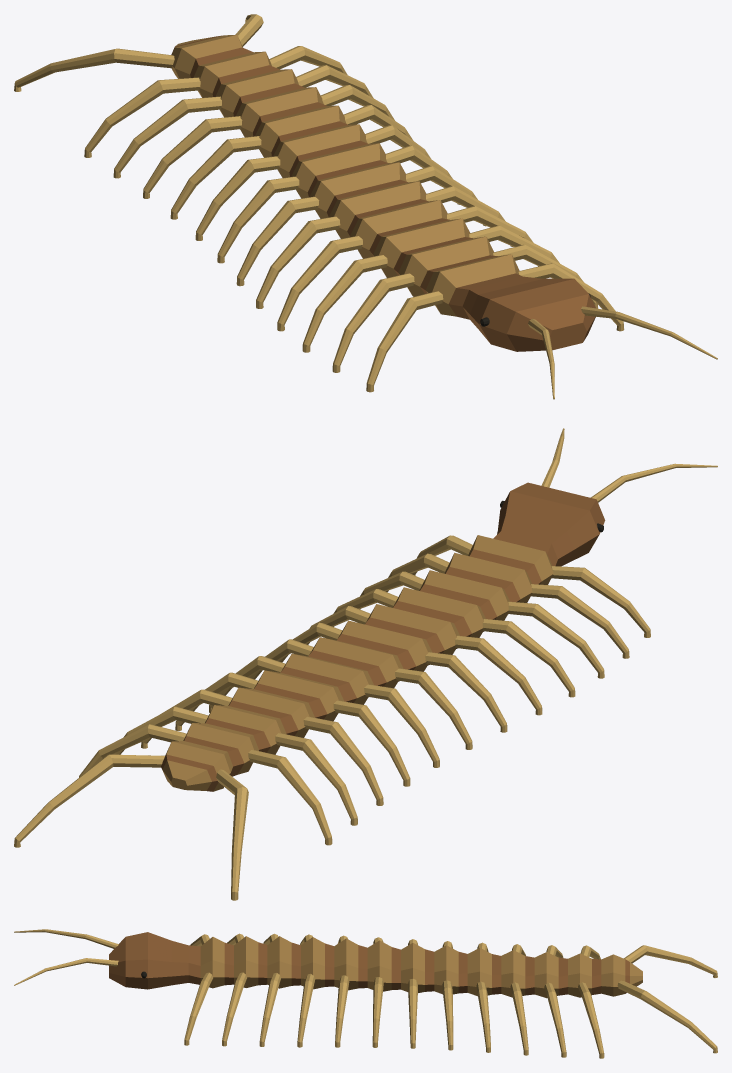
3 views of the same model, one above another, from view 1: azimuth 30°, elevation 25°; view 2: azimuth 150°, elevation 25°; view 3: azimuth 270°, elevation 25° (orthographic). The views are drawn at different scales.
Visible parts, largest first — view 1: WholeBroadLowHeadAndContinuousFlattenedSegmentedTrunk, WholeLongArticulatedLateralLeg0_12, WholeLongArticulatedLateralLeg0_11, WholeLongArticulatedLateralLeg0_10, WholeLongArticulatedLateralLeg0_2, WholeLongArticulatedLateralLeg0_1, WholeLongArticulatedLateralLeg0_3, WholeLongArticulatedLateralLeg0_9, WholeLongArticulatedLateralLeg0_0, WholeLongArticulatedLateralLeg0_4, WholeLongArticulatedLateralLeg0_8, WholeLongArticulatedLateralLeg0_5 (+15 smaller); view 2: WholeBroadLowHeadAndContinuousFlattenedSegmentedTrunk, WholeLongArticulatedLateralLeg1_12, WholeLongArticulatedLateralLeg0_12, WholeLongArticulatedLateralLeg0_11, WholeLongArticulatedLateralLeg0_10, WholeLongArticulatedLateralLeg0_2, WholeLongArticulatedLateralLeg0_1, WholeLongArticulatedLateralLeg0_9, WholeLongArticulatedLateralLeg0_0, WholeLongArticulatedLateralLeg0_3, WholeLongArticulatedLateralLeg0_4, WholeLongArticulatedLateralLeg0_8 (+7 smaller); view 3: WholeBroadLowHeadAndContinuousFlattenedSegmentedTrunk, WholeLongArticulatedLateralLeg1_12, WholeLongArticulatedLateralLeg0_12, WholeLongArticulatedLateralLeg1_11, WholeLongArticulatedLateralLeg1_10, WholeLongArticulatedLateralLeg1_0, WholeLongArticulatedLateralLeg1_1, WholeLongArticulatedLateralLeg1_2, WholeLongArticulatedLateralLeg1_3, WholeLongArticulatedLateralLeg1_9, WholeLongArticulatedLateralLeg1_4, WholeLongArticulatedLateralLeg1_7 (+5 smaller).
Part boxes in pixels (x1,y1,x2,y2): WholeBroadLowHeadAndContinuousFlattenedSegmentedTrunk: [171, 34, 595, 351]; WholeLongArticulatedLateralLeg0_12: [14, 48, 174, 91]; WholeLongArticulatedLateralLeg0_11: [84, 77, 200, 157]; WholeLongArticulatedLateralLeg0_10: [113, 96, 221, 178]; WholeLongArticulatedLateralLeg0_2: [302, 255, 387, 352]; WholeLongArticulatedLateralLeg0_1: [332, 273, 414, 372]; WholeLongArticulatedLateralLeg0_3: [277, 236, 362, 331]; WholeLongArticulatedLateralLeg0_9: [143, 116, 242, 198]; WholeLongArticulatedLateralLeg0_0: [366, 291, 443, 392]; WholeLongArticulatedLateralLeg0_4: [256, 216, 340, 308]; WholeLongArticulatedLateralLeg0_8: [170, 136, 261, 219]; WholeLongArticulatedLateralLeg0_5: [236, 196, 319, 286]; WholeBroadLowHeadAndContinuousFlattenedSegmentedTrunk: [161, 482, 605, 791]; WholeLongArticulatedLateralLeg1_12: [14, 754, 164, 847]; WholeLongArticulatedLateralLeg0_12: [216, 769, 248, 900]; WholeLongArticulatedLateralLeg0_11: [248, 750, 332, 845]; WholeLongArticulatedLateralLeg0_10: [275, 733, 357, 825]; WholeLongArticulatedLateralLeg0_2: [508, 601, 604, 678]; WholeLongArticulatedLateralLeg0_1: [531, 584, 629, 658]; WholeLongArticulatedLateralLeg0_9: [303, 716, 383, 805]; WholeLongArticulatedLateralLeg0_0: [551, 566, 650, 637]; WholeLongArticulatedLateralLeg0_3: [482, 619, 575, 697]; WholeLongArticulatedLateralLeg0_4: [454, 635, 542, 715]; WholeLongArticulatedLateralLeg0_8: [333, 700, 410, 786]; WholeBroadLowHeadAndContinuousFlattenedSegmentedTrunk: [109, 932, 642, 998]; WholeLongArticulatedLateralLeg1_12: [617, 980, 717, 1053]; WholeLongArticulatedLateralLeg0_12: [624, 945, 717, 977]; WholeLongArticulatedLateralLeg1_11: [578, 982, 604, 1058]; WholeLongArticulatedLateralLeg1_10: [544, 982, 566, 1057]; WholeLongArticulatedLateralLeg1_0: [184, 972, 213, 1045]; WholeLongArticulatedLateralLeg1_1: [222, 972, 246, 1046]; WholeLongArticulatedLateralLeg1_2: [259, 973, 281, 1046]; WholeLongArticulatedLateralLeg1_3: [297, 973, 315, 1047]; WholeLongArticulatedLateralLeg1_9: [510, 982, 528, 1055]; WholeLongArticulatedLateralLeg1_4: [335, 975, 349, 1047]; WholeLongArticulatedLateralLeg1_7: [442, 980, 453, 1050].
Size of the model in its own units: 1.26 by 0.3639 by 3.8.
